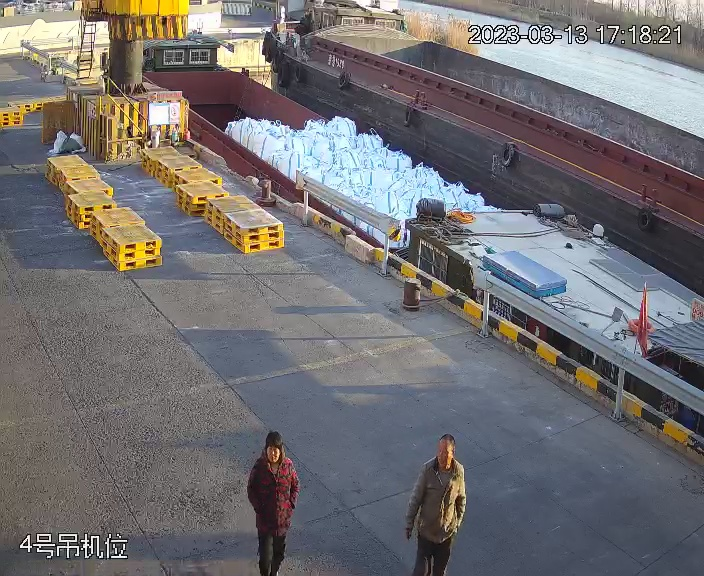head: (422, 434, 466, 490), (252, 432, 296, 480)
people: (403, 433, 468, 575), (245, 429, 301, 576)
